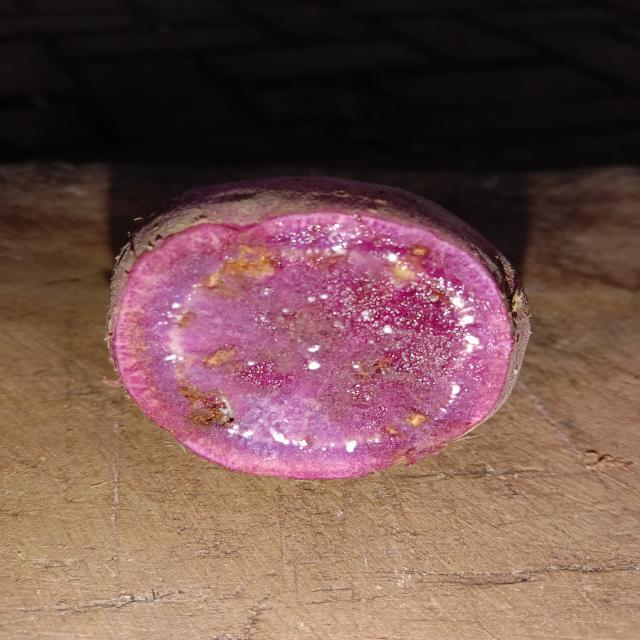Sick Sweet Potato_Tuber Rot: (112, 212, 513, 479)
